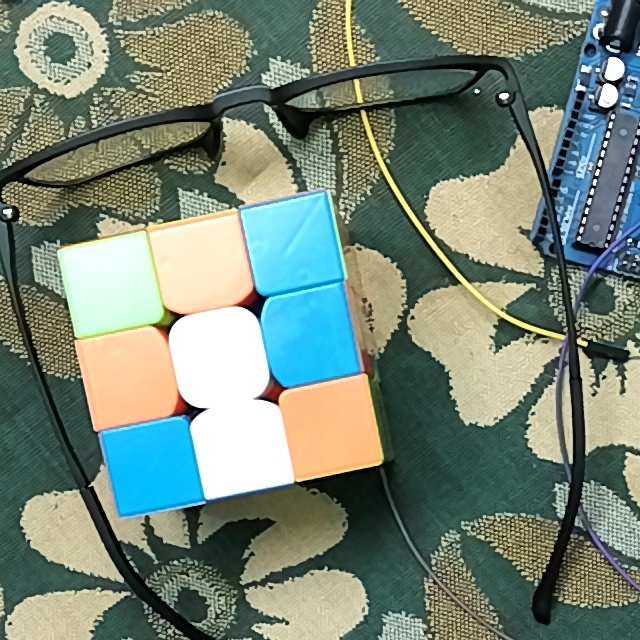tile: (93, 343, 168, 414), (77, 249, 147, 323), (116, 432, 188, 502), (293, 396, 370, 461), (277, 301, 346, 373), (169, 231, 238, 302), (181, 326, 255, 392), (259, 210, 327, 281), (211, 417, 281, 482)
